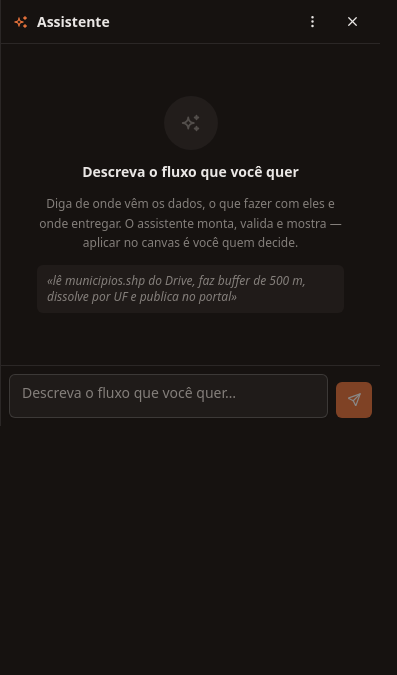
Scenario: gaveta do assistente › clicar abre o raciocínio, e ele continua aberto no turno seguinte
Step 1. Type "monta um buffer de 500m" into the text box named "Mensagem para o assistente" → {"x": 168, "y": 396}, box [9, 374, 328, 418]
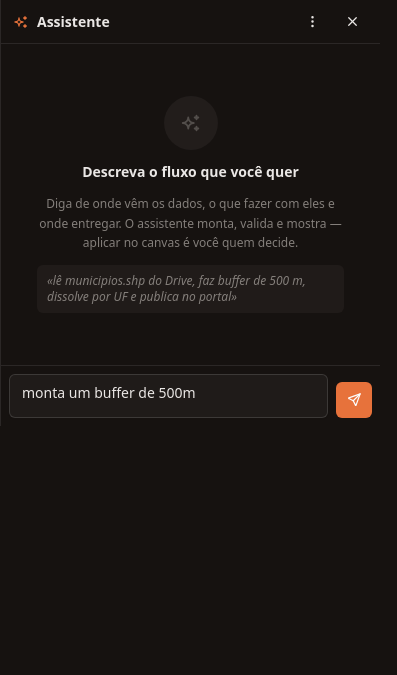
Step 2. Submit the form named "Mensagem para o assistente", box [1, 364, 380, 426]
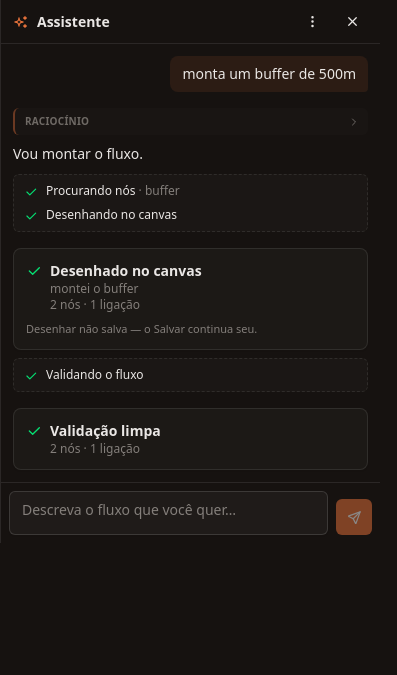
Step 3. Click the heading "Raciocínio" → {"x": 57, "y": 121}, box [25, 114, 360, 129]
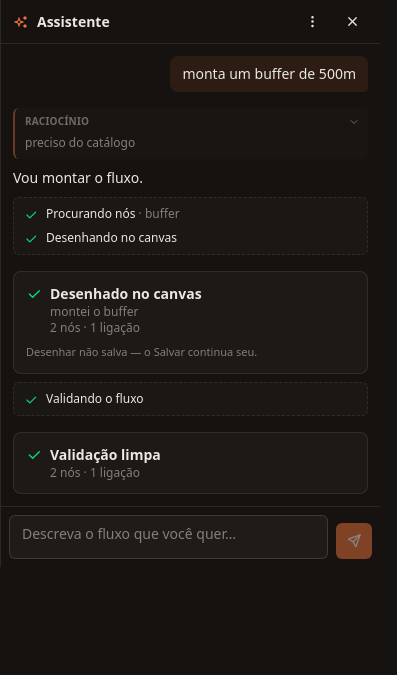
Check: the text "preciso do catálogo" is shown, box [25, 134, 135, 151]
Step 4. Type "e agora?" into the text box named "Mensagem para o assistente" → {"x": 168, "y": 537}, box [9, 515, 328, 559]
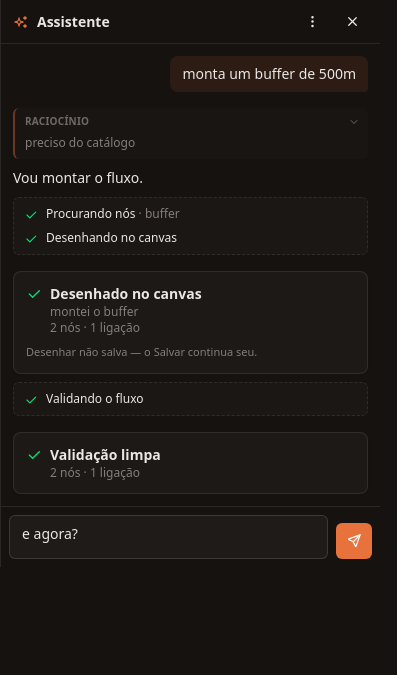
Step 5. Submit the form named "Mensagem para o assistente", box [1, 506, 380, 567]
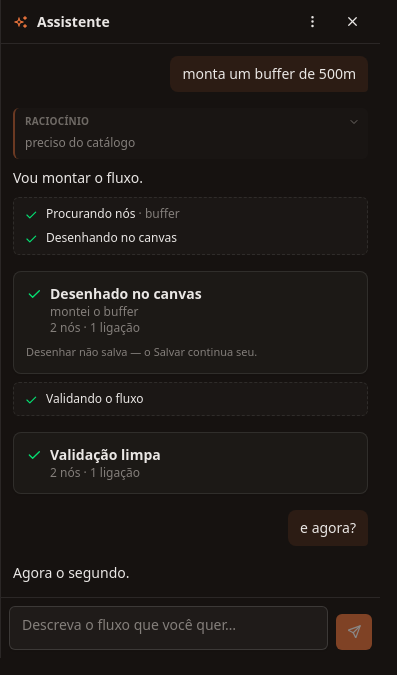
Check: the text "preciso do catálogo" is shown, box [25, 134, 135, 151]
Check: the text "Agora o segundo." is shown, box [13, 563, 130, 582]
